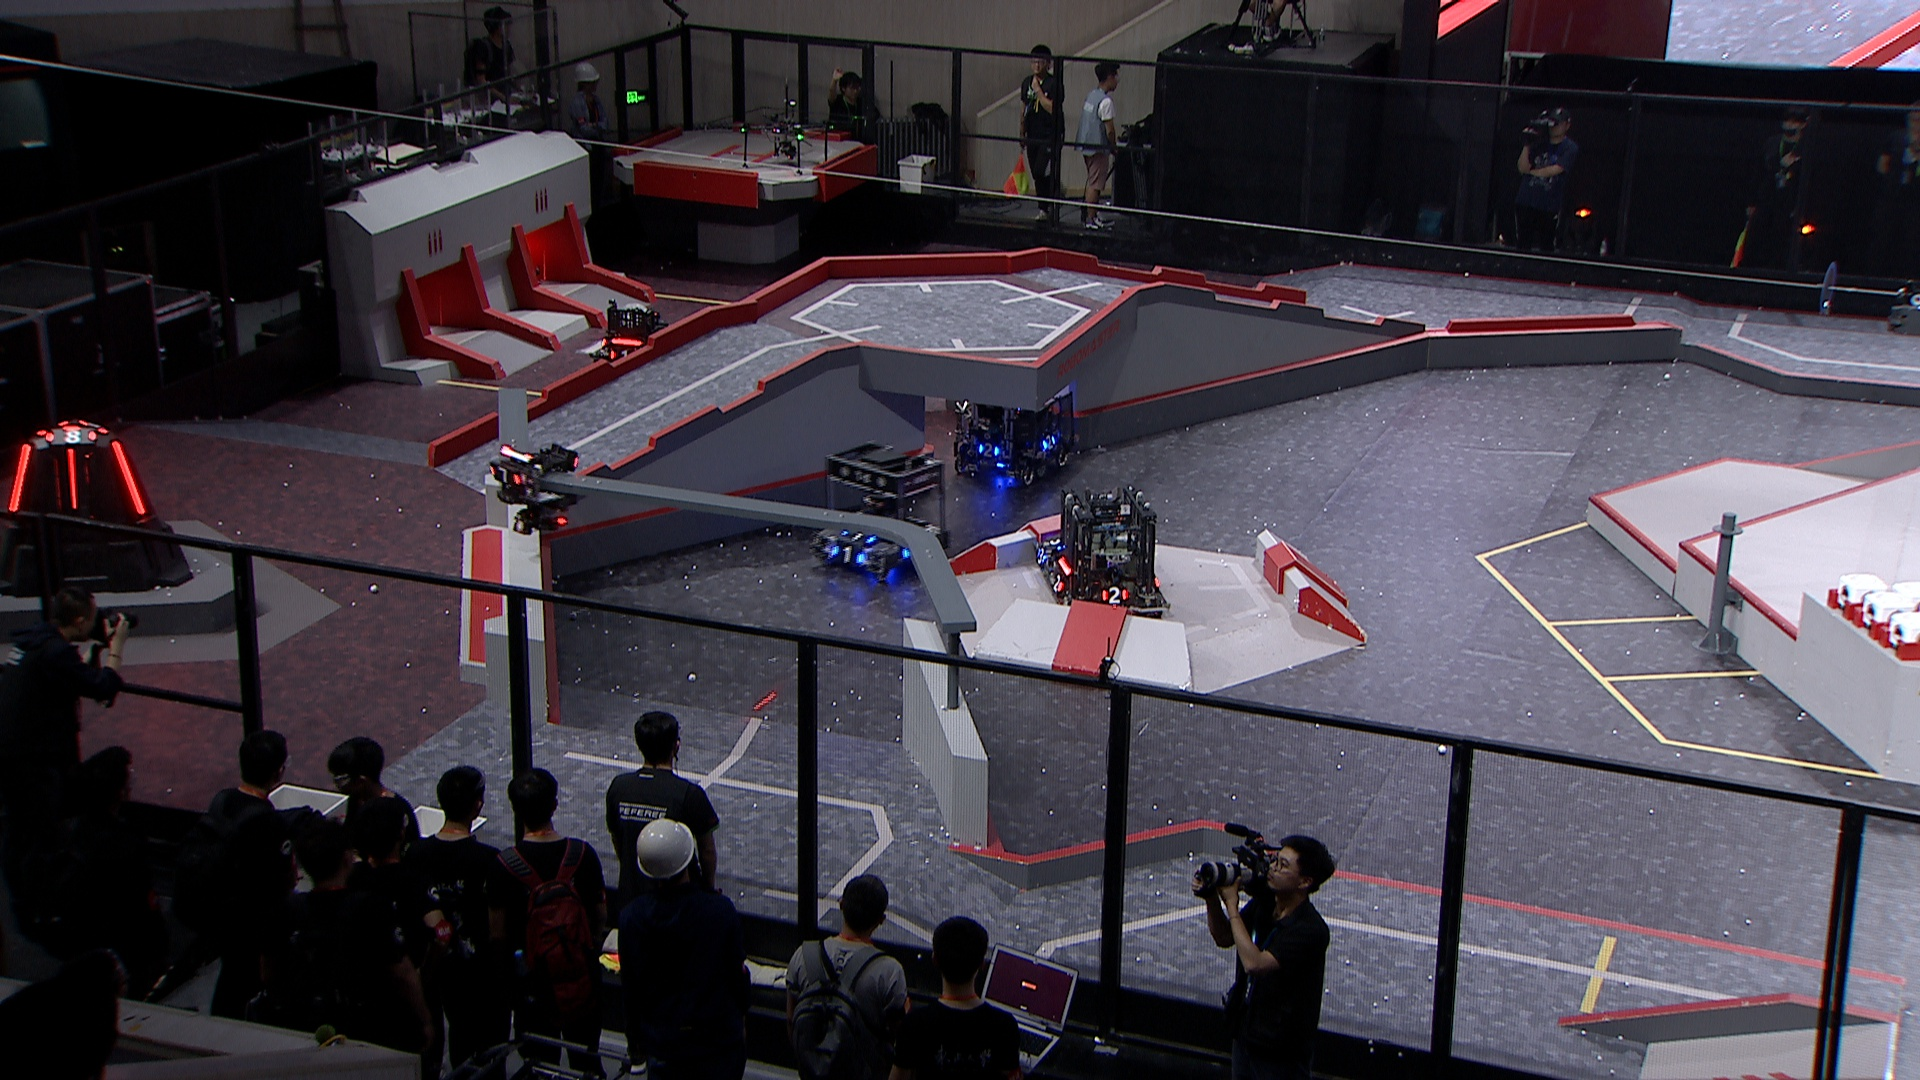armor: (109, 438, 145, 518), (7, 442, 32, 514), (63, 446, 80, 509), (45, 429, 95, 446), (829, 543, 868, 564), (487, 463, 520, 487), (1102, 585, 1126, 603), (841, 527, 872, 541), (1050, 574, 1068, 595), (612, 345, 632, 361), (1046, 535, 1062, 551), (1043, 434, 1058, 450), (981, 443, 998, 456), (1036, 549, 1050, 564)
car: (804, 436, 957, 585), (1044, 487, 1168, 626), (949, 365, 1077, 489), (585, 301, 671, 386), (1027, 520, 1083, 582)
watcher: (481, 436, 585, 533)
